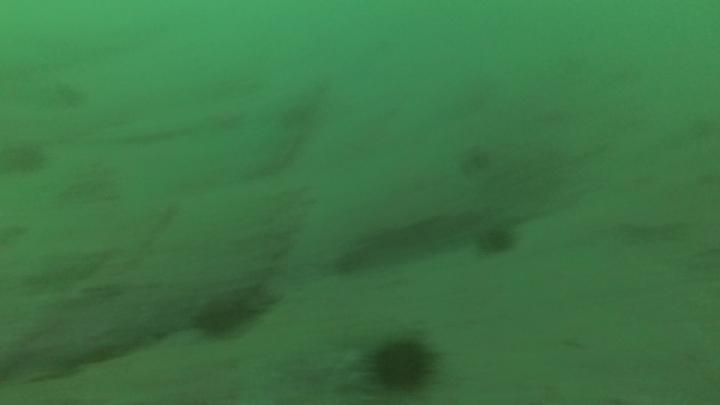echinus: (377, 341, 430, 389), (199, 300, 243, 335), (476, 229, 512, 255)
